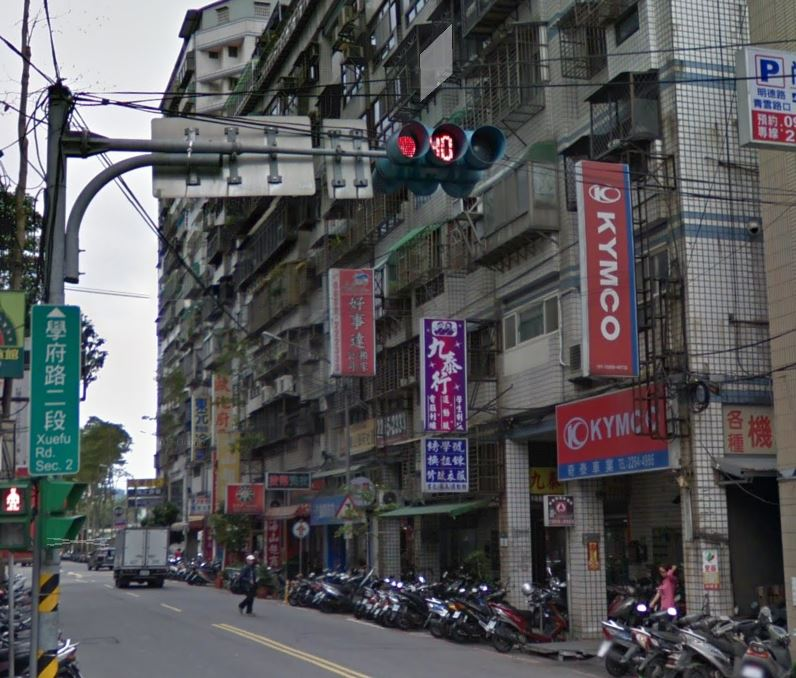Traffic_light_red: (383, 121, 507, 171)
